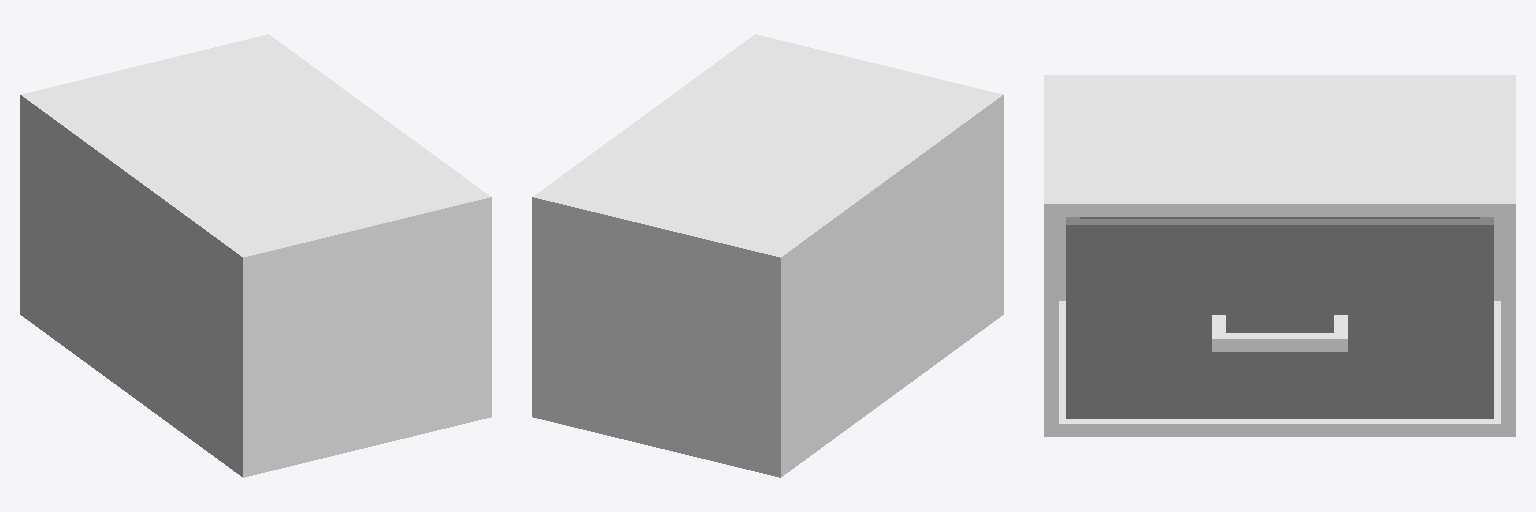
URDF robot description (drawer):
<?xml version="1.0" ?>
<!-- =================================================================================== -->
<!-- |    This document was autogenerated by xacro from drawer_one_sided_handle.xacro  | -->
<!-- |    EDITING THIS FILE BY HAND IS NOT RECOMMENDED                                 | -->
<!-- =================================================================================== -->
<robot name="drawer" xmlns:xacro="http://ros.org/wiki/xacro">
  <material name="omni/Blue">
    <color rgba="0 0 0.8 1"/>
  </material>
  <material name="omni/Red">
    <color rgba="1 0 0 1"/>
  </material>
  <material name="omni/White">
    <color rgba="1 1 1 1"/>
  </material>
  <material name="omni/Green">
    <color rgba="0 1 0 1"/>
  </material>
  <material name="omni/Yellow">
    <color rgba="1 1 0 1"/>
  </material>
  <material name="omni/LightGrey">
    <color rgba="0.6 0.6 0.6 1"/>
  </material>
  <material name="omni/DarkGrey">
    <color rgba="0.4 0.4 0.4 1"/>
  </material>
  <link name="base_link">
    </link>

  <link name="drawer">
    </link>

<!--  <link name="drawer">-->
<!--    <visual>-->
<!--      <origin rpy="0 0 0" xyz="0 0 0"/>-->
<!--      <geometry>-->
<!--        <box size="0.4 0.6 0.3"/>-->
<!--      </geometry>-->
<!--      <material name="omni/LightGrey"/>-->
<!--    </visual>-->
<!--    <collision>-->
<!--      <origin rpy="0 0 0" xyz="0 0 0"/>-->
<!--      <geometry>-->
<!--        <box size="0.4 0.6 0.3"/>-->
<!--      </geometry>-->
<!--      <contact_coefficients mu="0.0"/>-->
<!--    </collision>-->
<!--    <inertial>-->
<!--      &lt;!&ndash; CENTER OF MASS &ndash;&gt;-->
<!--      <origin rpy="0 0 0" xyz="0 0 0"/>-->
<!--      <mass value="0.1"/>-->
<!--      &lt;!&ndash; box inertia: 1/12*m(y^2+z^2), ... &ndash;&gt;-->
<!--      <inertia ixx="1e-3" ixy="0" ixz="0" iyy="1e-3" iyz="0" izz="1e-3"/>-->
<!--    </inertial>-->
<!--  </link>-->
  <joint name="base_drawer_joint" type="prismatic">
    <origin rpy="0 0 0" xyz="0 0 0"/>
    <parent link="base_link"/>
    <child link="drawer"/>
    <dynamics damping="0.5" friction="0.1"/>
    <limit effort="0.1" lower="0.0" upper="0.5" velocity="10.0"/>
    <axis xyz="1 0 0"/>
  </joint>

  <link name="drawer_bottom">
    <visual>
      <origin rpy="0 0 0" xyz="0 0 0"/>
      <geometry>
        <box size="0.36 0.56 0.02"/>
      </geometry>
      <material name="omni/DarkGrey"/>
    </visual>
    <collision>
      <origin rpy="0 0 0" xyz="0 0 0"/>
      <geometry>
        <box size="0.36 0.56 0.02"/>
      </geometry>
      <contact_coefficients mu="0.0"/>
    </collision>
    <inertial>
      <!-- CENTER OF MASS -->
      <origin rpy="0 0 0" xyz="0 0 0"/>
      <mass value="0.02"/>
      <!-- box inertia: 1/12*m(y^2+z^2), ... -->
      <inertia ixx="1e-3" ixy="0" ixz="0" iyy="1e-3" iyz="0" izz="1e-3"/>
    </inertial>
  </link>
  <joint name="db_2_d" type="fixed">
    <origin rpy="0 0 0" xyz="0 0 -0.14"/>
    <parent link="drawer"/>
    <child link="drawer_bottom"/>
  </joint>

  <link name="drawer_left">
    <visual>
      <origin rpy="0 0 0" xyz="0 0 0"/>
      <geometry>
        <box size="0.36 0.02 0.30"/>
      </geometry>
      <material name="omni/LightGrey"/>
    </visual>
    <collision>
      <origin rpy="0 0 0" xyz="0 0 0"/>
      <geometry>
        <box size="0.36 0.02 0.30"/>
      </geometry>
      <contact_coefficients mu="0.0"/>
    </collision>
    <inertial>
      <!-- CENTER OF MASS -->
      <origin rpy="0 0 0" xyz="0 0 0"/>
      <mass value="0.02"/>
      <!-- box inertia: 1/12*m(y^2+z^2), ... -->
      <inertia ixx="1e-3" ixy="0" ixz="0" iyy="1e-3" iyz="0" izz="1e-3"/>
    </inertial>
  </link>
  <joint name="dl_2_d" type="fixed">
    <origin rpy="0 0 0" xyz="0 -0.29 0"/>
    <parent link="drawer"/>
    <child link="drawer_left"/>
  </joint>

  <link name="drawer_right">
    <visual>
      <origin rpy="0 0 0" xyz="0 0 0"/>
      <geometry>
        <box size="0.36 0.02 0.30"/>
      </geometry>
      <material name="omni/LightGrey"/>
    </visual>
    <collision>
      <origin rpy="0 0 0" xyz="0 0 0"/>
      <geometry>
        <box size="0.36 0.02 0.30"/>
      </geometry>
      <contact_coefficients mu="0.0"/>
    </collision>
    <inertial>
      <!-- CENTER OF MASS -->
      <origin rpy="0 0 0" xyz="0 0 0"/>
      <mass value="0.02"/>
      <!-- box inertia: 1/12*m(y^2+z^2), ... -->
      <inertia ixx="1e-3" ixy="0" ixz="0" iyy="1e-3" iyz="0" izz="1e-3"/>
    </inertial>
  </link>
  <joint name="dr_2_d" type="fixed">
    <origin rpy="0 0 0" xyz="0 0.29 0"/>
    <parent link="drawer"/>
    <child link="drawer_right"/>
  </joint>

  <link name="drawer_front">
    <visual>
      <origin rpy="0 0 0" xyz="0 0 0"/>
      <geometry>
        <box size="0.02 0.60 0.30"/>
      </geometry>
      <material name="omni/LightGrey"/>
    </visual>
    <collision>
      <origin rpy="0 0 0" xyz="0 0 0"/>
      <geometry>
        <box size="0.02 0.60 0.30"/>
      </geometry>
      <contact_coefficients mu="0.0"/>
    </collision>
    <inertial>
      <!-- CENTER OF MASS -->
      <origin rpy="0 0 0" xyz="0 0 0"/>
      <mass value="0.02"/>
      <!-- box inertia: 1/12*m(y^2+z^2), ... -->
      <inertia ixx="1e-3" ixy="0" ixz="0" iyy="1e-3" iyz="0" izz="1e-3"/>
    </inertial>
  </link>
  <joint name="df_2_d" type="fixed">
    <origin rpy="0 0 0" xyz="0.19 0 0"/>
    <parent link="drawer"/>
    <child link="drawer_front"/>
  </joint>

  <link name="drawer_back">
    <visual>
      <origin rpy="0 0 0" xyz="0 0 0"/>
      <geometry>
        <box size="0.02 0.60 0.30"/>
      </geometry>
      <material name="omni/LightGrey"/>
    </visual>
    <collision>
      <origin rpy="0 0 0" xyz="0 0 0"/>
      <geometry>
        <box size="0.02 0.60 0.30"/>
      </geometry>
      <contact_coefficients mu="0.0"/>
    </collision>
    <inertial>
      <!-- CENTER OF MASS -->
      <origin rpy="0 0 0" xyz="0 0 0"/>
      <mass value="0.02"/>
      <!-- box inertia: 1/12*m(y^2+z^2), ... -->
      <inertia ixx="1e-3" ixy="0" ixz="0" iyy="1e-3" iyz="0" izz="1e-3"/>
    </inertial>
  </link>
  <joint name="dbk_2_d" type="fixed">
    <origin rpy="0 0 0" xyz="-0.19 0 0"/>
    <parent link="drawer"/>
    <child link="drawer_back"/>
  </joint>

  <link name="left_wall">
    <visual>
      <origin rpy="0 0 0" xyz="0 0 0"/>
      <geometry>
        <box size="0.41 0.02 0.32"/>
      </geometry>
      <material name="omni/White"/>
    </visual>
    <collision>
      <origin rpy="0 0 0" xyz="0 0 0.0"/>
      <geometry>
        <box size="0.41 0.02 0.32"/>
      </geometry>
    </collision>
    <inertial>
      <!-- CENTER OF MASS -->
      <origin rpy="0 0 0" xyz="0 0 0"/>
      <mass value="0.05"/>
      <!-- box inertia: 1/12*m(y^2+z^2), ... -->
      <inertia ixx="1e-3" ixy="0" ixz="0" iyy="1e-3" iyz="0" izz="1e-3"/>
    </inertial>
  </link>
  <joint name="b_2_lw" type="fixed">
    <origin rpy="0 0 0" xyz="-0.01 -0.32 0"/>
    <parent link="base_link"/>
    <child link="left_wall"/>
  </joint>
  <link name="right_wall">
    <visual>
      <origin rpy="0 0 0" xyz="0 0 0"/>
      <geometry>
        <box size="0.41 0.02 0.32"/>
      </geometry>
      <material name="omni/White"/>
    </visual>
    <collision>
      <origin rpy="0 0 0" xyz="0 0 0.0"/>
      <geometry>
        <box size="0.41 0.02 0.32"/>
      </geometry>
    </collision>
    <inertial>
      <!-- CENTER OF MASS -->
      <origin rpy="0 0 0" xyz="0 0 0"/>
      <mass value="0.05"/>
      <!-- box inertia: 1/12*m(y^2+z^2), ... -->
      <inertia ixx="1e-3" ixy="0" ixz="0" iyy="1e-3" iyz="0" izz="1e-3"/>
    </inertial>
  </link>
  <joint name="b_2_rw" type="fixed">
    <origin rpy="0 0 0" xyz="-0.01 0.32 0"/>
    <parent link="base_link"/>
    <child link="right_wall"/>
  </joint>
  <link name="bottom_wall">
    <visual>
      <origin rpy="0 0 0" xyz="0 0 0"/>
      <geometry>
        <box size="0.41 0.66 0.02"/>
      </geometry>
      <material name="omni/White"/>
    </visual>
    <collision>
      <origin rpy="0 0 0" xyz="0 0 0.0"/>
      <geometry>
        <box size="0.41 0.66 0.02"/>
      </geometry>
    </collision>
    <inertial>
      <!-- CENTER OF MASS -->
      <origin rpy="0 0 0" xyz="0 0 0"/>
      <mass value="0.05"/>
      <!-- box inertia: 1/12*m(y^2+z^2), ... -->
      <inertia ixx="1e-3" ixy="0" ixz="0" iyy="1e-3" iyz="0" izz="1e-3"/>
    </inertial>
  </link>
  <joint name="b_2_bw" type="fixed">
    <origin rpy="0 0 0" xyz="-0.01 0 -0.17"/>
    <parent link="base_link"/>
    <child link="bottom_wall"/>
  </joint>
  <link name="top_wall">
    <visual>
      <origin rpy="0 0 0" xyz="0 0 0"/>
      <geometry>
        <box size="0.41 0.66 0.02"/>
      </geometry>
      <material name="omni/White"/>
    </visual>
    <collision>
      <origin rpy="0 0 0" xyz="0 0 0.0"/>
      <geometry>
        <box size="0.41 0.66 0.02"/>
      </geometry>
    </collision>
    <inertial>
      <!-- CENTER OF MASS -->
      <origin rpy="0 0 0" xyz="0 0 0"/>
      <mass value="0.05"/>
      <!-- box inertia: 1/12*m(y^2+z^2), ... -->
      <inertia ixx="1e-3" ixy="0" ixz="0" iyy="1e-3" iyz="0" izz="1e-3"/>
    </inertial>
  </link>
  <joint name="b_2_tw" type="fixed">
    <origin rpy="0 0 0" xyz="-0.01 0 0.17"/>
    <parent link="base_link"/>
    <child link="top_wall"/>
  </joint>
  <link name="back_wall">
    <visual>
      <origin rpy="0 0 0" xyz="0 0 0"/>
      <geometry>
        <box size="0.02 0.66 0.36"/>
      </geometry>
      <material name="omni/White"/>
    </visual>
    <collision>
      <origin rpy="0 0 0" xyz="0 0 0.0"/>
      <geometry>
        <box size="0.02 0.66 0.36"/>
      </geometry>
    </collision>
    <inertial>
      <!-- CENTER OF MASS -->
      <origin rpy="0 0 0" xyz="0 0 0"/>
      <mass value="0.05"/>
      <!-- box inertia: 1/12*m(y^2+z^2), ... -->
      <inertia ixx="1e-3" ixy="0" ixz="0" iyy="1e-3" iyz="0" izz="1e-3"/>
    </inertial>
  </link>
  <joint name="b_2_backw" type="fixed">
    <origin rpy="0 0 0" xyz="-0.22 0 0"/>
    <parent link="base_link"/>
    <child link="back_wall"/>
  </joint>
  <link name="handle_left">
    <visual>
      <origin rpy="0 0 0" xyz="0 0 0"/>
      <geometry>
        <box size="0.06 0.02 0.02"/>
      </geometry>
      <material name="omni/White"/>
    </visual>
    <collision>
      <origin rpy="0 0 0" xyz="0 0 0.0"/>
      <geometry>
        <box size="0.06 0.02 0.02"/>
      </geometry>
    </collision>
    <inertial>
      <!-- CENTER OF MASS -->
      <origin rpy="0 0 0" xyz="0 0 0"/>
      <mass value="0.05"/>
      <!-- box inertia: 1/12*m(y^2+z^2), ... -->
      <inertia ixx="2e-05" ixy="0" ixz="0" iyy="0.0001" iyz="0" izz="0.0001"/>
    </inertial>
  </link>
  <joint name="d_2_hl" type="fixed">
    <origin rpy="0 0 0" xyz="0.23 -0.085 0"/>
    <parent link="drawer"/>
    <child link="handle_left"/>
  </joint>
  <link name="handle_right">
    <visual>
      <origin rpy="0 0 0" xyz="0 0 0"/>
      <geometry>
        <box size="0.06 0.02 0.02"/>
      </geometry>
      <material name="omni/White"/>
    </visual>
    <collision>
      <origin rpy="0 0 0" xyz="0 0 0.0"/>
      <geometry>
        <box size="0.06 0.02 0.02"/>
      </geometry>
    </collision>
    <inertial>
      <!-- CENTER OF MASS -->
      <origin rpy="0 0 0" xyz="0 0 0"/>
      <mass value="0.05"/>
      <!-- box inertia: 1/12*m(y^2+z^2), ... -->
      <inertia ixx="2e-05" ixy="0" ixz="0" iyy="0.0001" iyz="0" izz="0.0001"/>
    </inertial>
  </link>
  <joint name="d_2_hr" type="fixed">
    <origin rpy="0 0 0" xyz="0.23 0.085 0"/>
    <parent link="drawer"/>
    <child link="handle_right"/>
  </joint>
  <link name="handle_grip">
    <visual>
      <origin rpy="0 0 0" xyz="0 0 0"/>
      <geometry>
        <box size="0.02 0.19 0.02"/>
      </geometry>
      <material name="omni/White"/>
    </visual>
    <collision>
      <origin rpy="0 0 0" xyz="0 0 0.0"/>
      <geometry>
        <box size="0.02 0.19 0.02"/>
      </geometry>
    </collision>
    <inertial>
      <!-- CENTER OF MASS -->
      <origin rpy="0 0 0" xyz="0 0 0"/>
      <mass value="0.05"/>
      <!-- box inertia: 1/12*m(y^2+z^2), ... -->
      <inertia ixx="0.0009125" ixy="0" ixz="0" iyy="2e-05" iyz="0" izz="0.0009125"/>
    </inertial>
  </link>
  <joint name="d_2_hg" type="fixed">
    <origin rpy="0 0 0" xyz="0.27 0 0"/>
    <parent link="drawer"/>
    <child link="handle_grip"/>
  </joint>
<!--  <link name="handle_top_cover">-->
<!--    <visual>-->
<!--      <origin rpy="0 0 0" xyz="0 0 0"/>-->
<!--      <geometry>-->
<!--        &lt;!&ndash; <box size="${handle_gap + handle_thickness} ${handle_span + 2 * handle_thickness} ${handle_thickness * 20}"/> &ndash;&gt;-->
<!--        <box size="0.08 0.19 0.006"/>-->
<!--      </geometry>-->
<!--      <material name="omni/White"/>-->
<!--    </visual>-->
<!--    <collision>-->
<!--      <origin rpy="0 0 0" xyz="0 0 0.0"/>-->
<!--      <geometry>-->
<!--        <box size="0.08 0.19 0.006"/>-->
<!--      </geometry>-->
<!--      <contact_coefficients mu="0.0"/>-->
<!--    </collision>-->
<!--    <inertial>-->
<!--      <origin rpy="0 0 0" xyz="0 0 0"/>-->
<!--      <mass value="0.05"/>-->
<!--      <inertia ixx="0.0009125" ixy="0" ixz="0" iyy="0.0001" iyz="0" izz="0.0009925"/>-->
<!--    </inertial>-->
<!--  </link>-->
<!--  <joint name="d_2_htc" type="fixed">-->
<!--    <origin rpy="0 0 0" xyz="0.24 0 -0.043"/>-->
<!--    <parent link="drawer"/>-->
<!--    <child link="handle_top_cover"/>-->
<!--  </joint>-->
<!--  <link name="handle_bottom_cover">-->
<!--    <visual>-->
<!--      <origin rpy="0 0 0" xyz="0 0 0"/>-->
<!--      <geometry>-->
<!--        &lt;!&ndash; <box size="${handle_gap + handle_thickness} ${handle_span + 2 * handle_thickness} ${handle_thickness * 20}"/> &ndash;&gt;-->
<!--        <box size="0.006 0.19 0.113136"/>-->
<!--      </geometry>-->
<!--      <material name="omni/White"/>-->
<!--    </visual>-->
<!--    <collision>-->
<!--      <origin rpy="0 0 0" xyz="0 0 0.0"/>-->
<!--      <geometry>-->
<!--        <box size="0.006 0.19 0.113136"/>-->
<!--      </geometry>-->
<!--      <contact_coefficients mu="0.0"/>-->
<!--    </collision>-->
<!--    <inertial>-->
<!--      <origin rpy="0 0 0" xyz="0 0 0"/>-->
<!--      <mass value="0.05"/>-->
<!--      <inertia ixx="0.0009125" ixy="0" ixz="0" iyy="0.0001" iyz="0" izz="0.0009925"/>-->
<!--    </inertial>-->
<!--  </link>-->
<!--  <joint name="d_2_hbc" type="fixed">-->
<!--    <origin rpy="0 0.78539816339 0" xyz="-0.001 0 -0.04"/>-->
<!--    <parent link="handle_top_cover"/>-->
<!--    <child link="handle_bottom_cover"/>-->
<!--  </joint>-->
</robot>

--- Render facts (derived) ---
3 views of the same robot in one strip: view 1: azimuth 30°, elevation 25°; view 2: azimuth 150°, elevation 25°; view 3: azimuth 270°, elevation 25° (orthographic).
Model drawer with 15 links and 14 joints (1 prismatic, 13 fixed), rooted at base_link, posed every joint at zero.
Links seen in each view (by area): view 1: top_wall, back_wall, left_wall, bottom_wall; view 2: top_wall, back_wall, right_wall, bottom_wall; view 3: drawer_front, top_wall, bottom_wall, back_wall, left_wall, right_wall, handle_grip, drawer_back.
Boxes of the visible links, x1=… form: top_wall: x1=33, y1=34, x2=491, y2=267; back_wall: x1=20, y1=92, x2=254, y2=477; left_wall: x1=252, y1=209, x2=491, y2=462; bottom_wall: x1=252, y1=405, x2=491, y2=475; top_wall: x1=532, y1=34, x2=993, y2=267; back_wall: x1=769, y1=92, x2=1003, y2=477; right_wall: x1=532, y1=209, x2=771, y2=462; bottom_wall: x1=532, y1=405, x2=771, y2=474; drawer_front: x1=1066, y1=219, x2=1493, y2=418; top_wall: x1=1044, y1=80, x2=1515, y2=216; bottom_wall: x1=1044, y1=301, x2=1515, y2=436; back_wall: x1=1044, y1=75, x2=1515, y2=300; left_wall: x1=1044, y1=217, x2=1058, y2=423; right_wall: x1=1501, y1=217, x2=1515, y2=423; handle_grip: x1=1212, y1=333, x2=1347, y2=351; drawer_back: x1=1080, y1=217, x2=1479, y2=218.
Size in the robot's own frame: 0.51 by 0.66 by 0.36 metres.
Geometry: primitives only (box / cylinder / sphere), no mesh files.